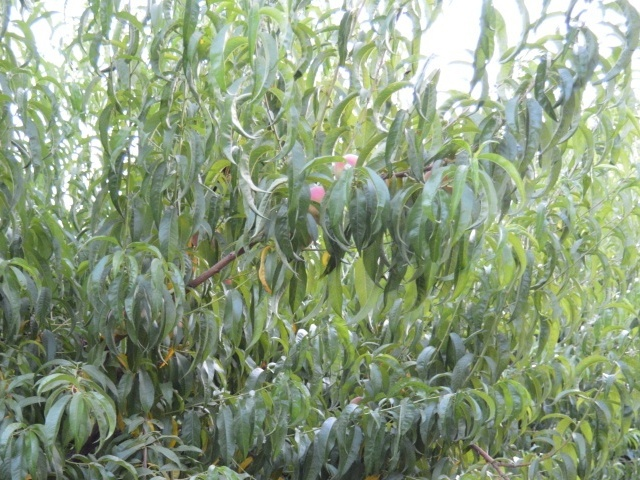peach: (331, 149, 368, 181), (304, 185, 336, 220)
